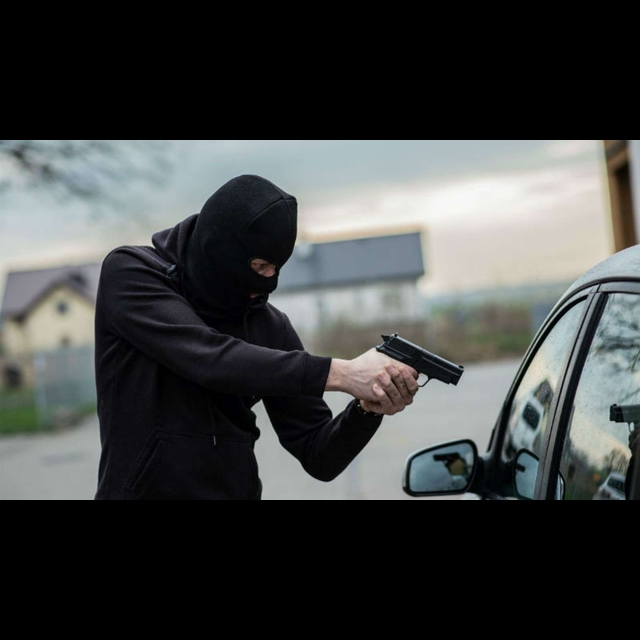SILAH: (343, 320, 474, 425)
